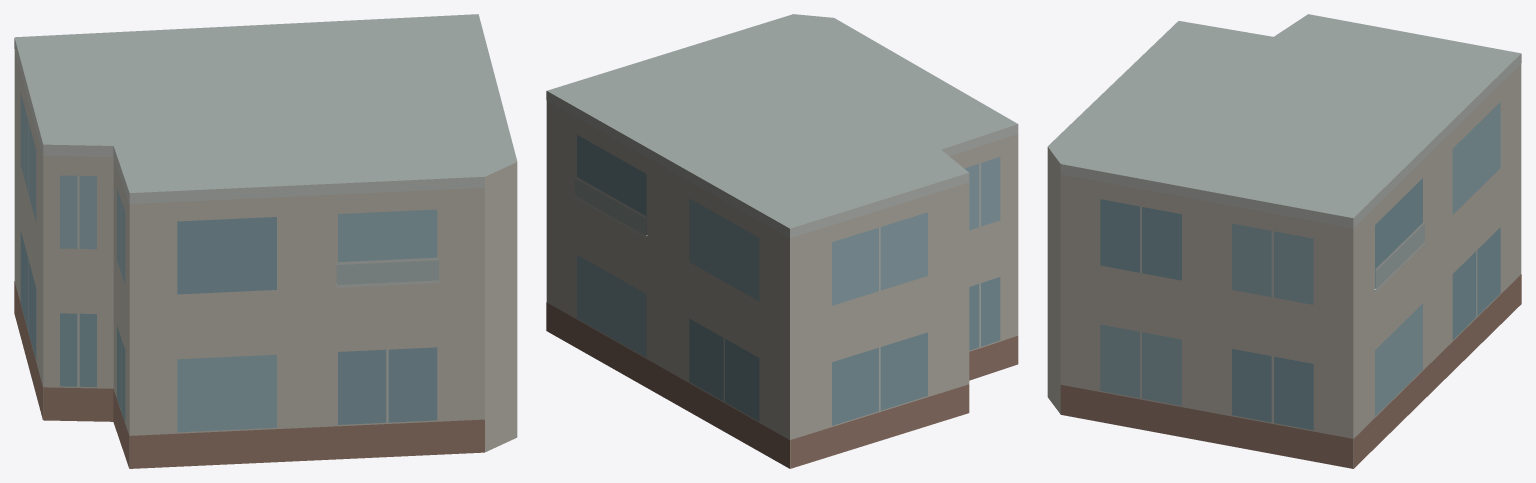
The model's file is survey-upis-32932071.glb.
3 views of the same model, side by side, from view 1: azimuth 30°, elevation 25°; view 2: azimuth 150°, elevation 25°; view 3: azimuth 270°, elevation 25° (orthographic). The views are drawn at different scales.
Parts seen in each view (by area): view 1: survey-upis-32932071.tmp; view 2: survey-upis-32932071.tmp; view 3: survey-upis-32932071.tmp.
Boxes of the visible parts, x1,y1,x2,y2 form: survey-upis-32932071.tmp: [14, 14, 517, 468]; survey-upis-32932071.tmp: [546, 14, 1018, 468]; survey-upis-32932071.tmp: [1047, 14, 1521, 468].
Bounding box in the file's own units: 10.67 × 6.1 × 10.46.
